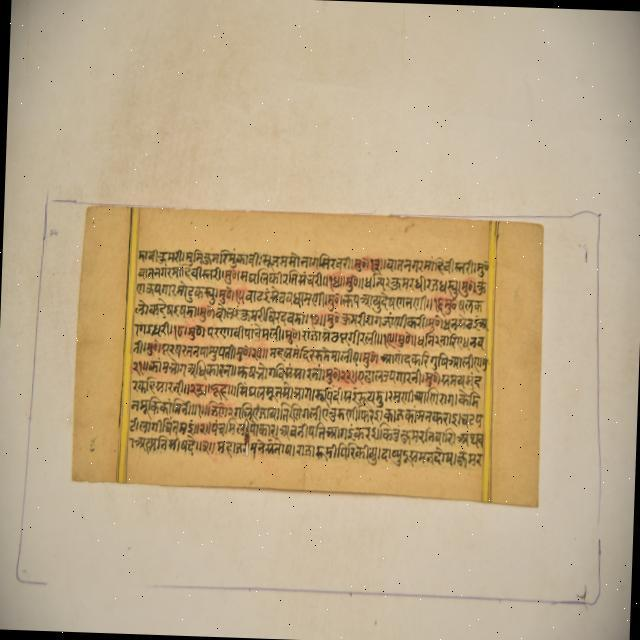text_paragraph: (72, 207, 540, 508)
